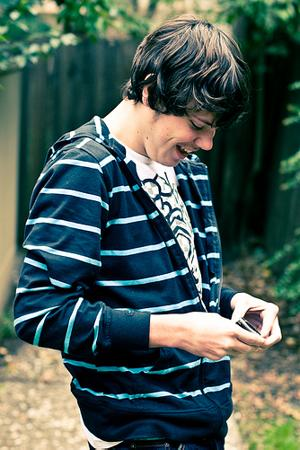person: (13, 18, 281, 446)
